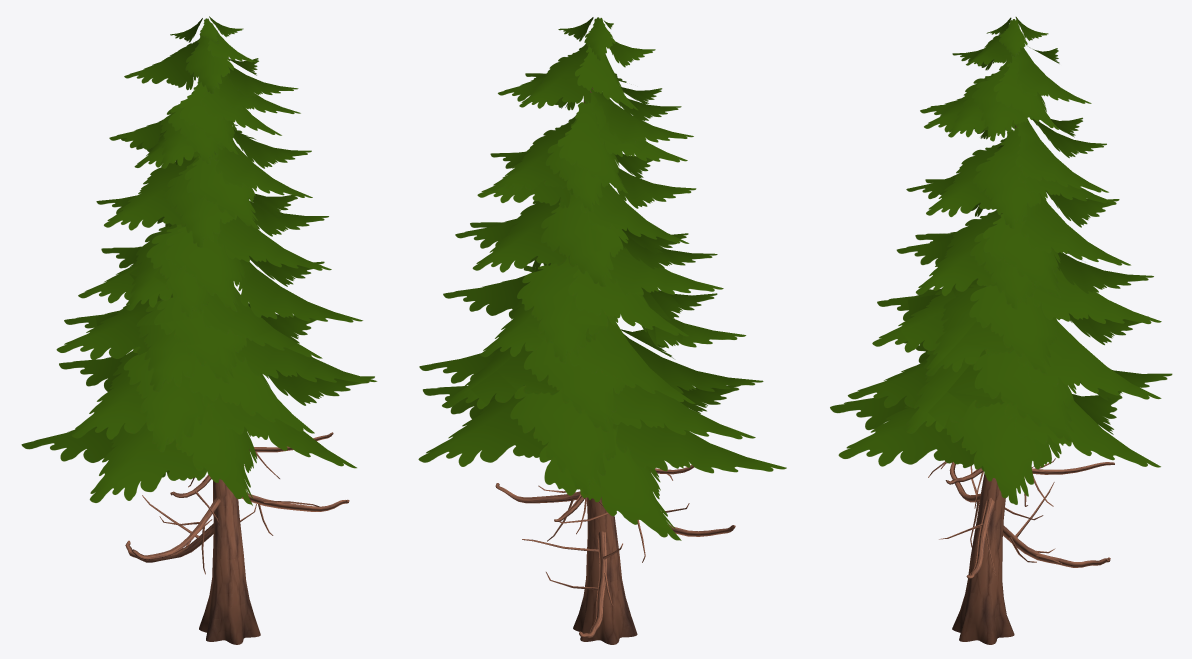
File: pine-79gmllnweb-transformed.glb
3 renders of one model, left to right at view 1: azimuth 30°, elevation 25°; view 2: azimuth 150°, elevation 25°; view 3: azimuth 270°, elevation 25°, orthographic. The views are drawn at different scales.
Visible parts, largest first — view 1: Pine_4; view 2: Pine_4; view 3: Pine_4.
Boxes of the visible parts, x1,y1,x2,y2 form: Pine_4: [21, 16, 377, 644]; Pine_4: [418, 17, 786, 644]; Pine_4: [830, 17, 1172, 644].
Size of the model in its own units: 5.8 by 10.24 by 5.37.
Materials: 2 (2 with a texture image).
